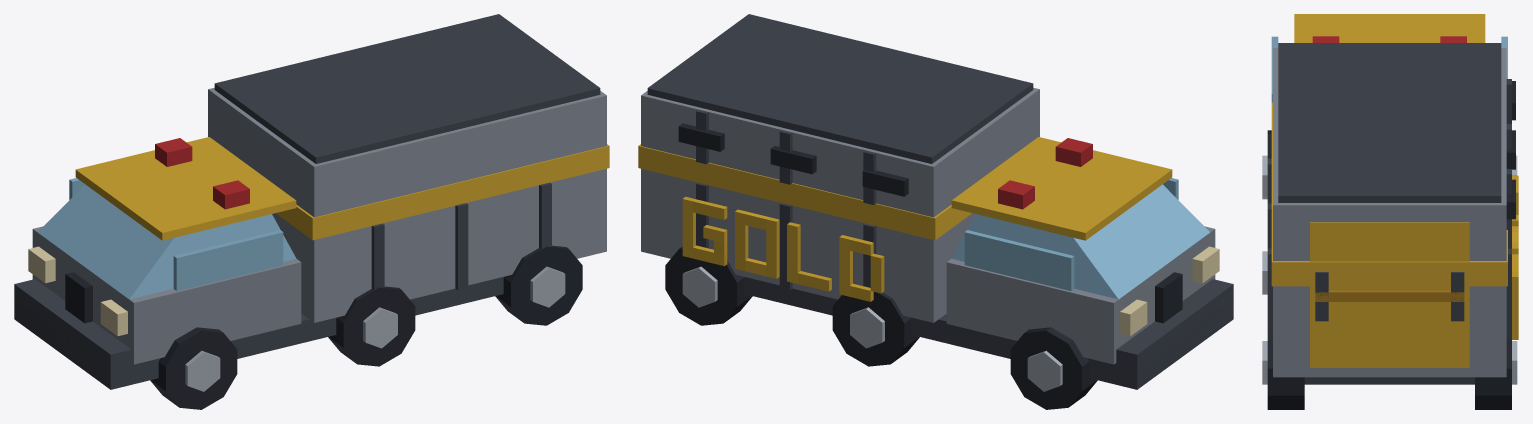
Rendered from Decor_GoldVault_Truck.fbx.
3 views of the same model, side by side, from view 1: azimuth 30°, elevation 25°; view 2: azimuth 150°, elevation 25°; view 3: azimuth 270°, elevation 25° (orthographic). The views are drawn at different scales.
Visible parts, largest first — view 1: Truck_Body; view 2: Truck_Body; view 3: Truck_Body.
Boxes of the visible parts, <box> form: Truck_Body: <box>14,14,609,409</box>; Truck_Body: <box>638,14,1233,409</box>; Truck_Body: <box>1262,14,1518,409</box>.
Bounding box in the file's own units: 23.6 × 10 × 9.6.
